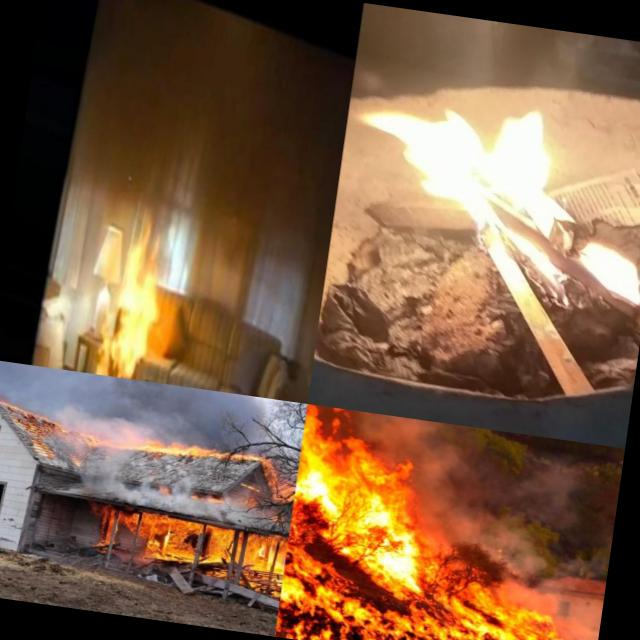fire: (340, 47, 640, 312), (274, 404, 560, 640), (90, 510, 289, 584), (102, 195, 176, 382), (138, 432, 264, 468)
smoke: (0, 359, 273, 450), (65, 458, 284, 529)
